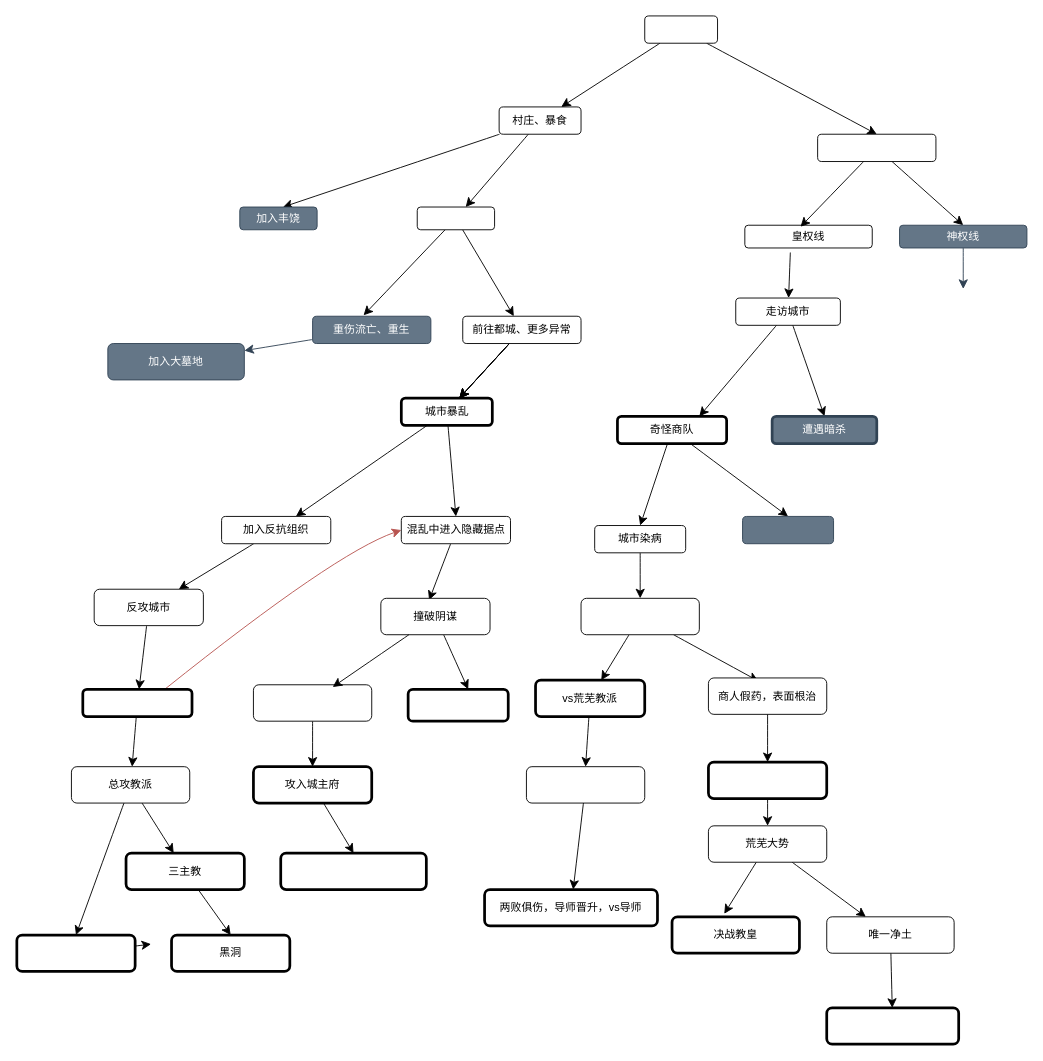
Some shapes in this 1043 by 1061 pixel diagram are drawn without their labels. Each missing label, with the centre of its shape:
"二次爆发，激战商人" goes at (767,779).
"假意加入战争神殿" goes at (312,702).
"傀儡教皇" goes at (75,952).
"导师领军，总攻教派" goes at (585,784).
"异界" goes at (681,29).
"战争神殿追杀" goes at (457,705).
"教皇来临，屠城献祭" goes at (353,870).
"无暇菌落" goes at (892,1025).
"皇宫染病" goes at (788,530).
"神秘导师" goes at (876,147).
"祭品" goes at (455,218).
"追查感染源" goes at (639,616).
"面对教派反扑" goes at (137,703).
